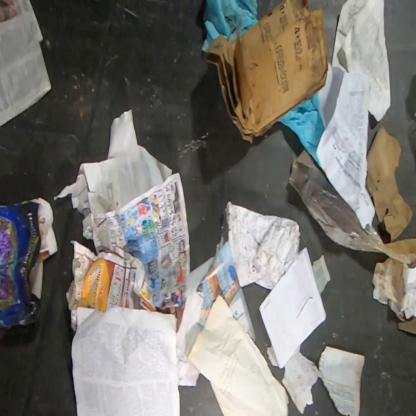cardboard: (204, 0, 328, 143)
soft_plastic: (289, 150, 415, 266)
